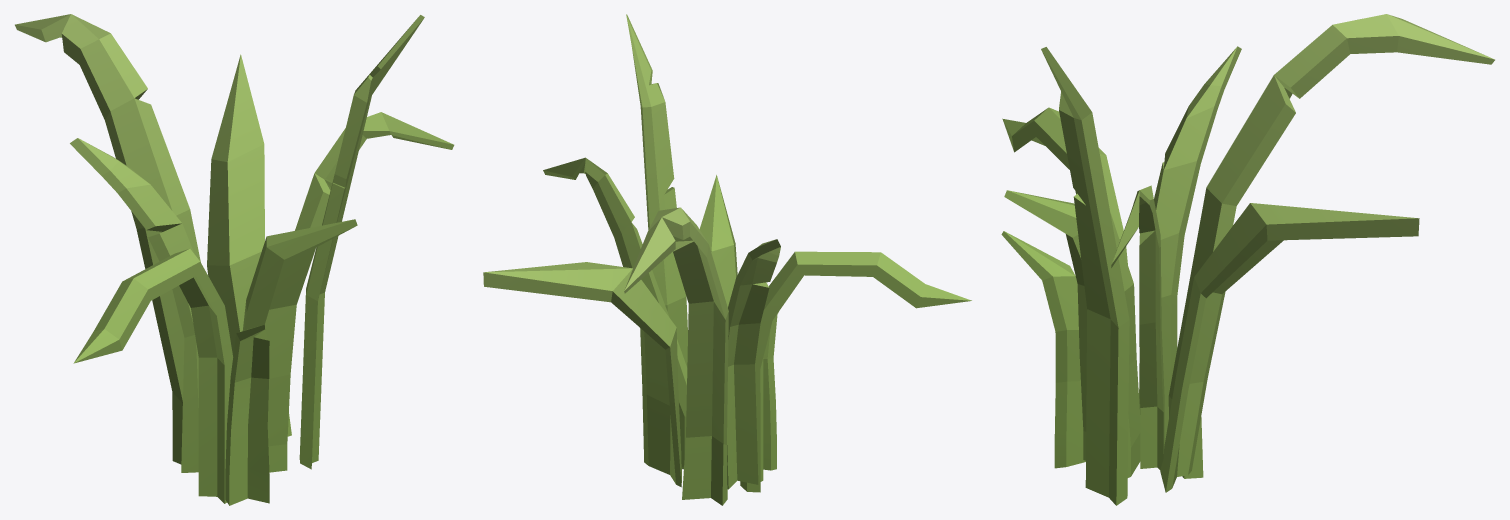
Rendered from dm11.grass.v2.01.glb.
3 renders of one model, left to right at view 1: azimuth 30°, elevation 25°; view 2: azimuth 150°, elevation 25°; view 3: azimuth 270°, elevation 25°, orthographic. The views are drawn at different scales.
Visible parts, largest first — view 1: PP_Grass_15.001_PP_Standard_Material_0; view 2: PP_Grass_15.001_PP_Standard_Material_0; view 3: PP_Grass_15.001_PP_Standard_Material_0.
Boxes of the visible parts, bbox=[...] form: PP_Grass_15.001_PP_Standard_Material_0: bbox=[15, 14, 454, 505]; PP_Grass_15.001_PP_Standard_Material_0: bbox=[483, 14, 971, 505]; PP_Grass_15.001_PP_Standard_Material_0: bbox=[1001, 14, 1494, 505].
Size of the model in its own units: 0.4087 by 0.4191 by 0.3694.
1 material, 1 textured.
